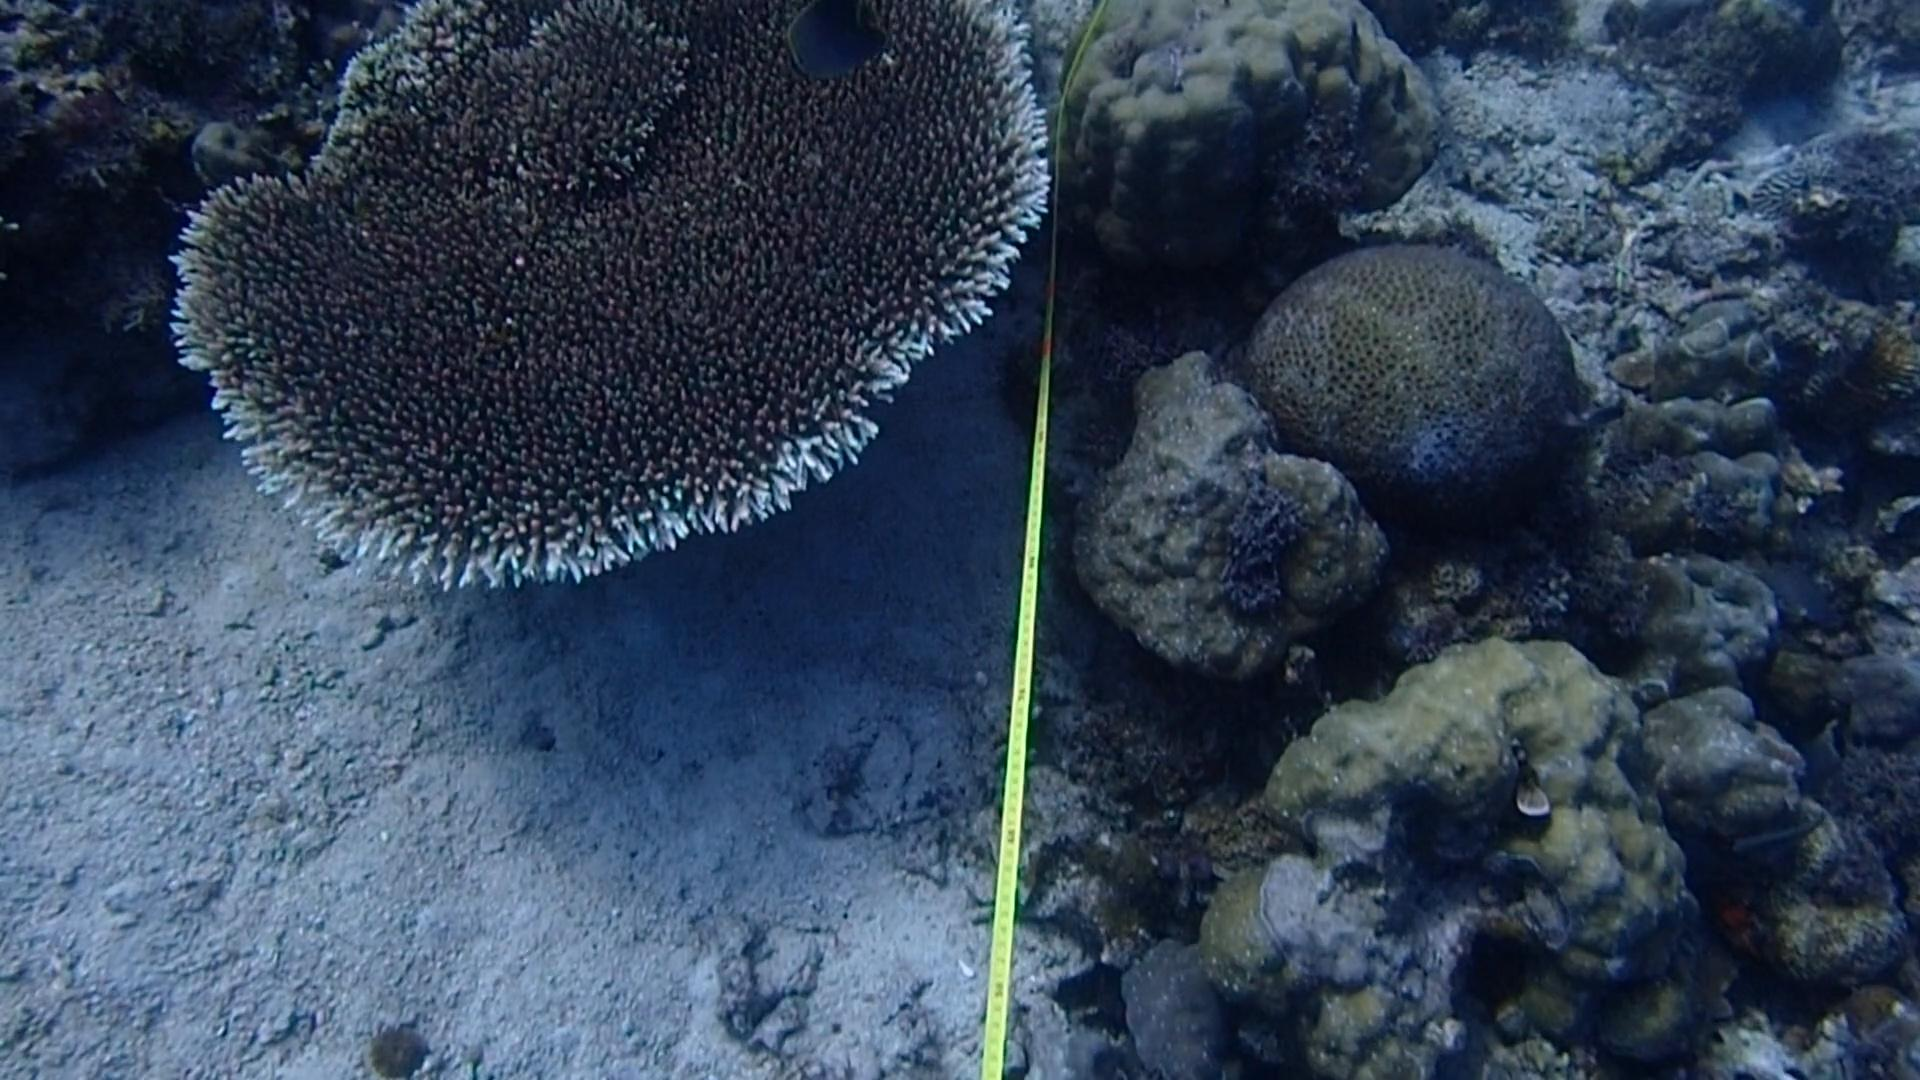Dark Blue Dory: (791, 4, 890, 86)
Light Fish: (1534, 376, 1648, 456), (1713, 799, 1833, 876)
